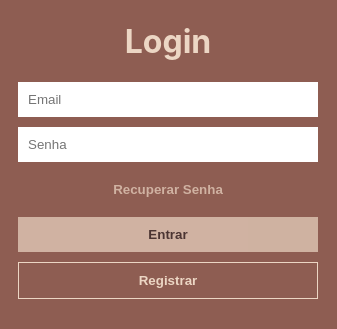
Test: Login › given email, when invalid, then show invalid error message
This screenshot has width=337, height=329.
Type "anyValue" into the field with test id "email". click: (168, 100)
box: left=18, top=82, right=318, bottom=117
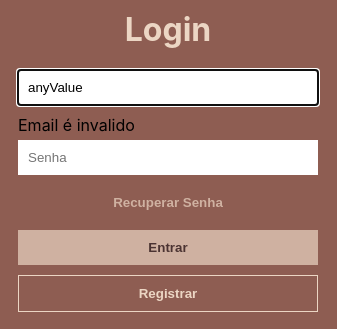
Expected: the text "Email é invalido" is shown, left=18, top=115, right=135, bottom=135
